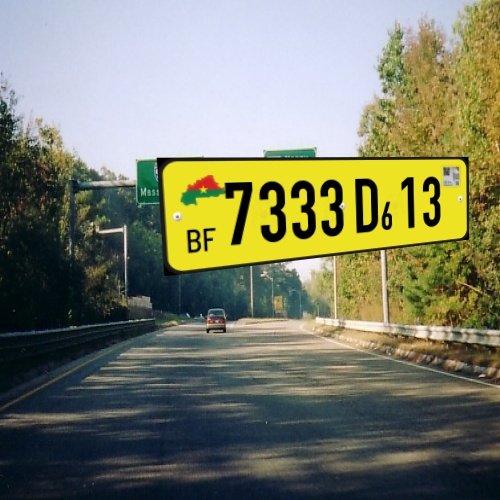plate: (139, 134, 483, 293)
